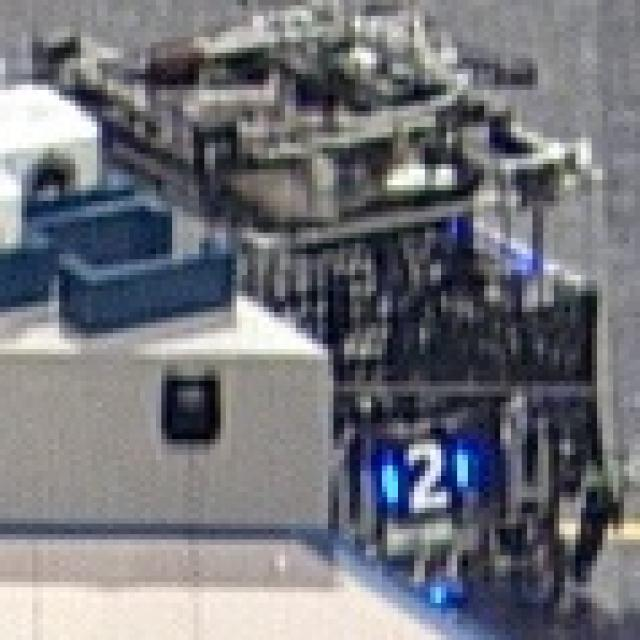B2: (376, 434, 468, 513)
